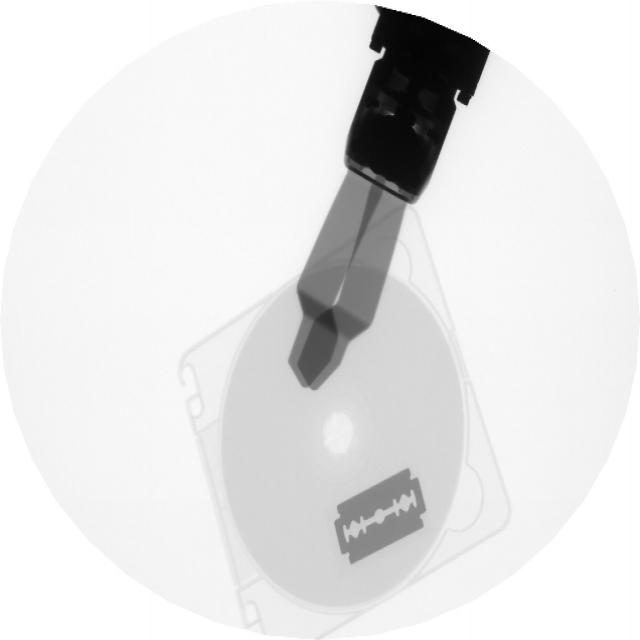BLADE: (329, 458, 436, 572)
